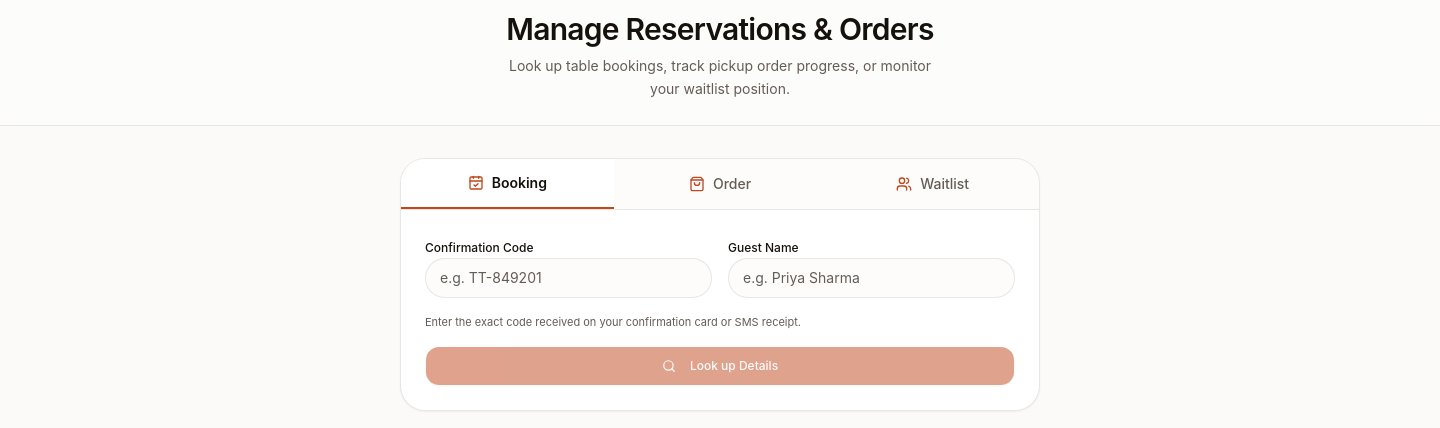
Test case: Manage Page (/manage) › switches tabs and updates code input placeholder
Click the tab "Order": (720, 184) [614,158,826,208]
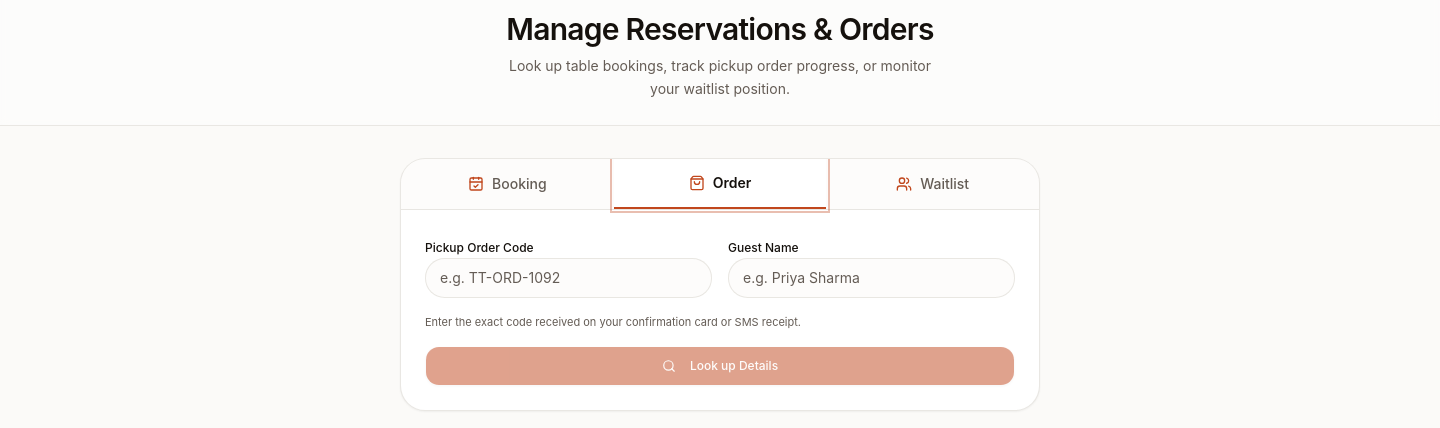
Check: the field with placeholder "e.g. TT-ORD-1092" is shown, box [425,258,712,298]
